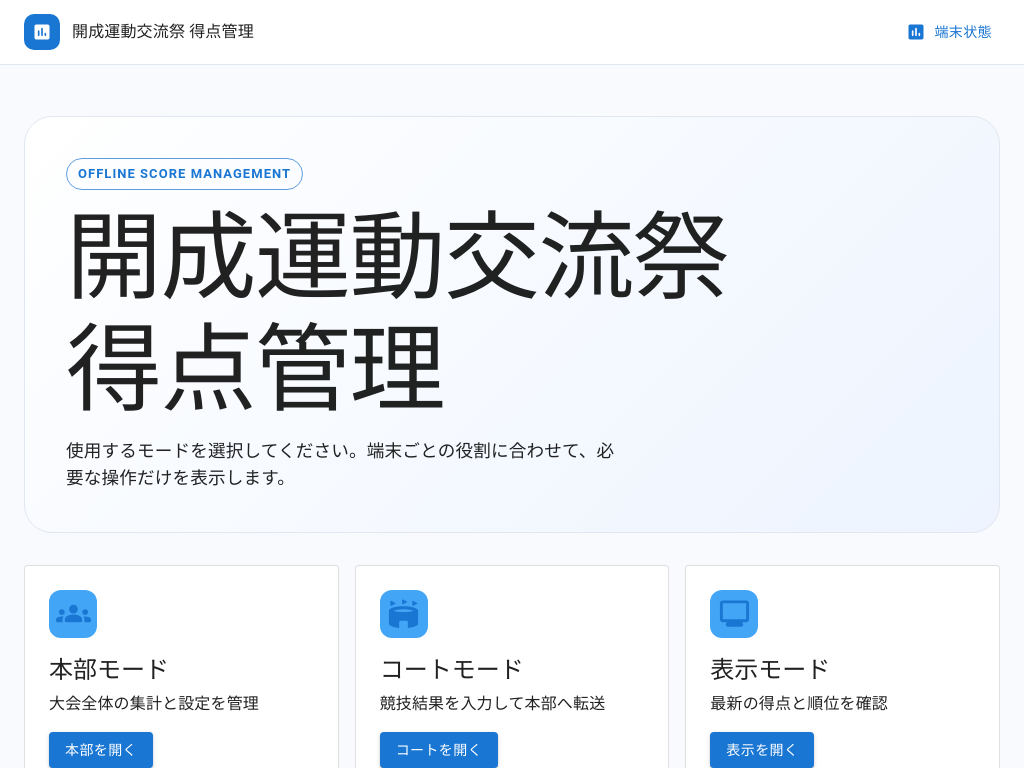
Test: App › shows tournament configuration and QR receive tabs in Host mode
Click the button with aria-label "本部モード" at [101, 750], box [49, 732, 153, 767]
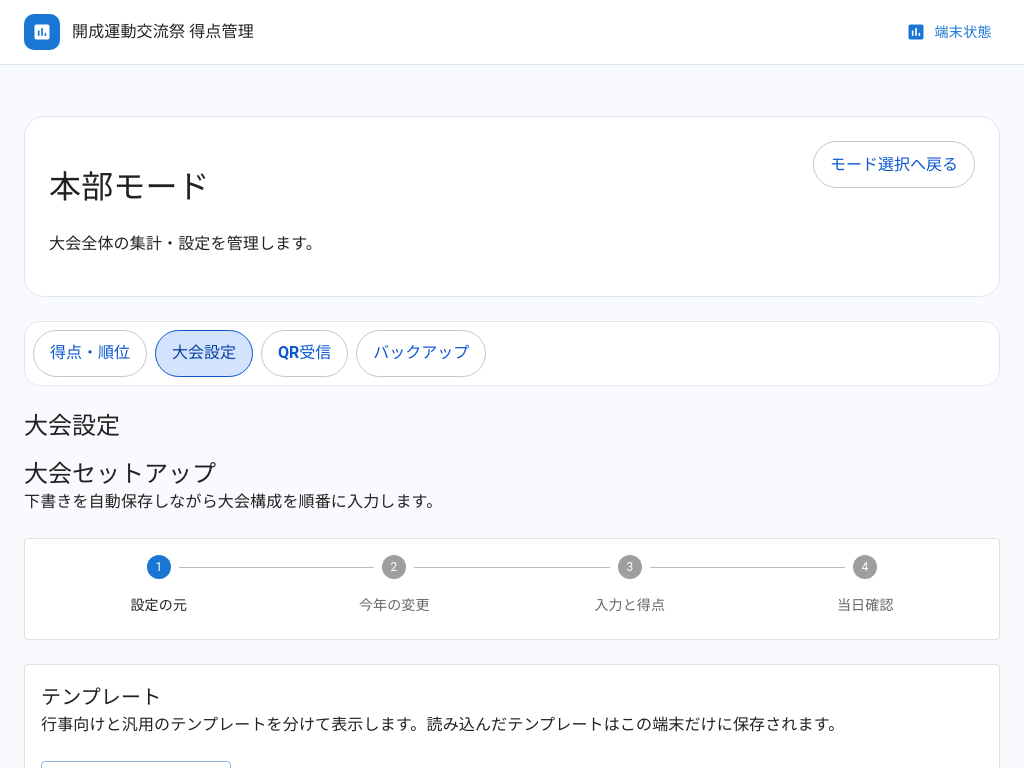
Result: the button "大会設定" is shown at [155, 330, 253, 377]
Result: the button "QR受信" is shown at [261, 330, 348, 377]
Result: the heading "大会設定" is shown at [24, 412, 120, 440]
